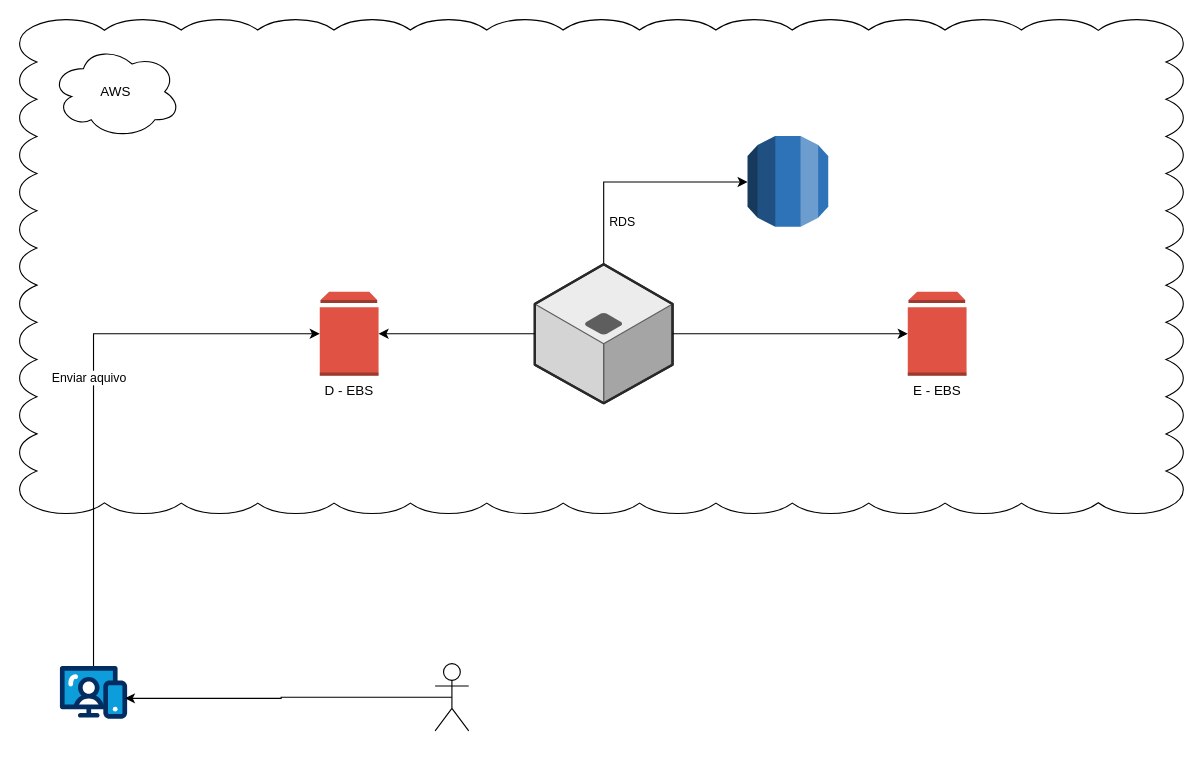
Image size: 1203x774. Some labels were removed from this diagram. The centre of each missing label's shape, as x and y in pixels:
Actor: point 451,696
EC2: point 603,333
